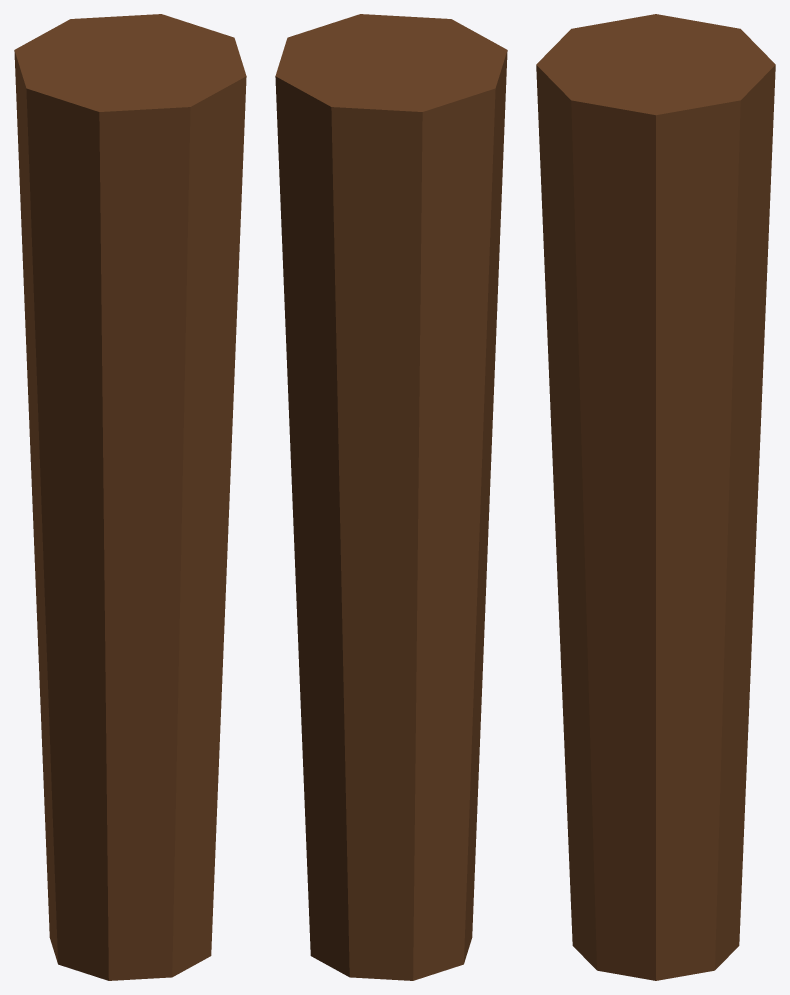
The model's file is LegFrontLeftLower.glb.
3 views of the same model, side by side, from view 1: azimuth 30°, elevation 25°; view 2: azimuth 150°, elevation 25°; view 3: azimuth 270°, elevation 25° (orthographic).
Parts seen in each view (by area): view 1: Sculpture; view 2: Sculpture; view 3: Sculpture.
Boxes of the visible parts, x1,y1,x2,y2 form: Sculpture: (14, 14, 246, 980); Sculpture: (275, 14, 507, 980); Sculpture: (536, 14, 775, 980).
Size of the model in its own units: 0.138 by 0.56 by 0.138.
